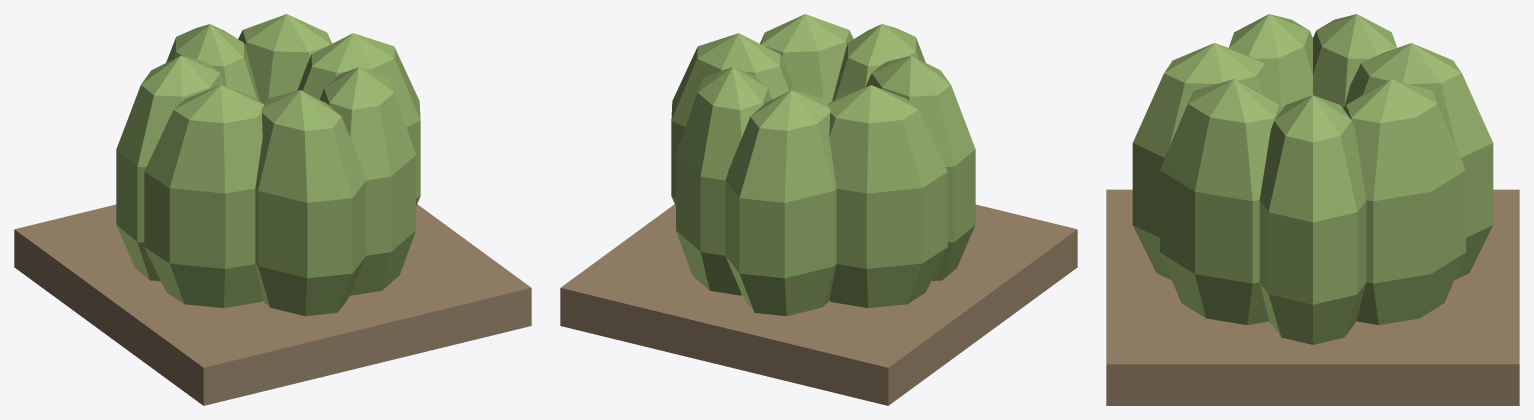
The model's file is lettuce.glb.
3 renders of one model, left to right at view 1: azimuth 30°, elevation 25°; view 2: azimuth 150°, elevation 25°; view 3: azimuth 270°, elevation 25°, orthographic. The views are drawn at different scales.
Visible parts, largest first — view 1: lettuce-mature; view 2: lettuce-mature; view 3: lettuce-mature.
Part boxes in pixels (x1,y1,x2,y2): lettuce-mature: (14, 14, 531, 405); lettuce-mature: (560, 14, 1077, 405); lettuce-mature: (1106, 14, 1519, 405).
Size of the model in its own units: 0.45 by 0.32 by 0.45.
